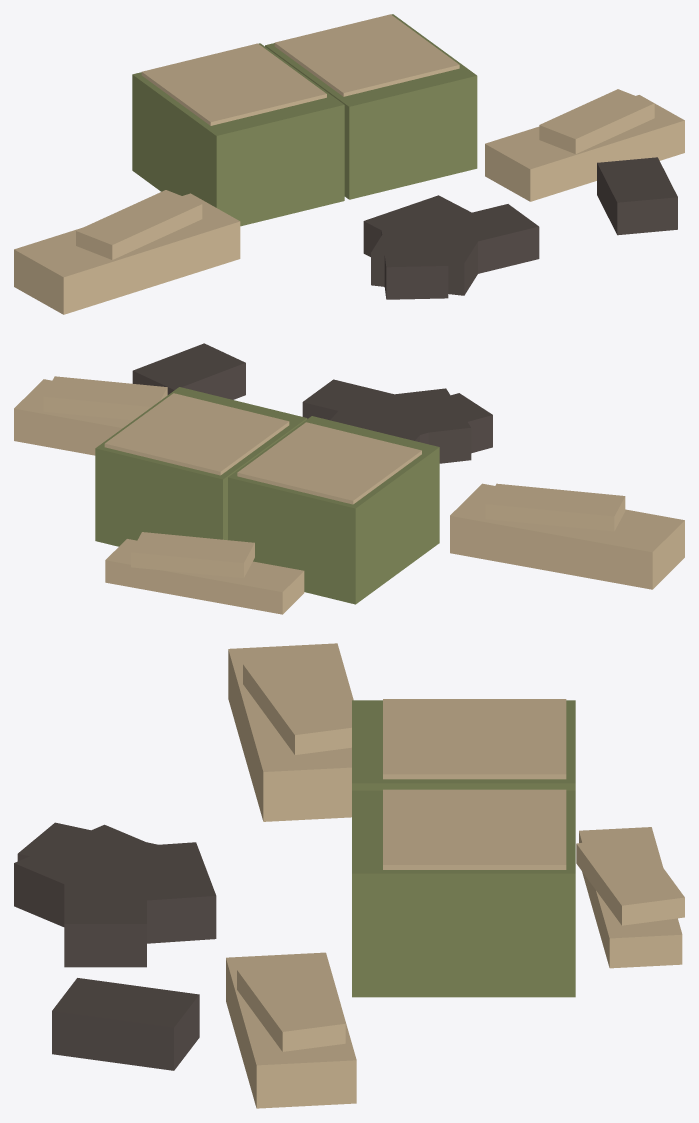
File: SM_HescoCorto2_v0_MallaLimpia_e2_MuyDanado_LOD1.fbx
3 renders of one model, top to bottom at view 1: azimuth 30°, elevation 25°; view 2: azimuth 150°, elevation 25°; view 3: azimuth 270°, elevation 25°, orthographic. The views are drawn at different scales.
Visible parts, largest first — view 1: SM_hesco_piezas_v62_LOD1; view 2: SM_hesco_piezas_v62_LOD1; view 3: SM_hesco_piezas_v62_LOD1.
Part boxes in pixels (left/top/right/bottom): SM_hesco_piezas_v62_LOD1: left=14, top=14, right=684, bottom=314; SM_hesco_piezas_v62_LOD1: left=14, top=343, right=684, bottom=614; SM_hesco_piezas_v62_LOD1: left=14, top=643, right=684, bottom=1108.
Bounding box in the file's own units: 5.36 × 0.799 × 3.66.
